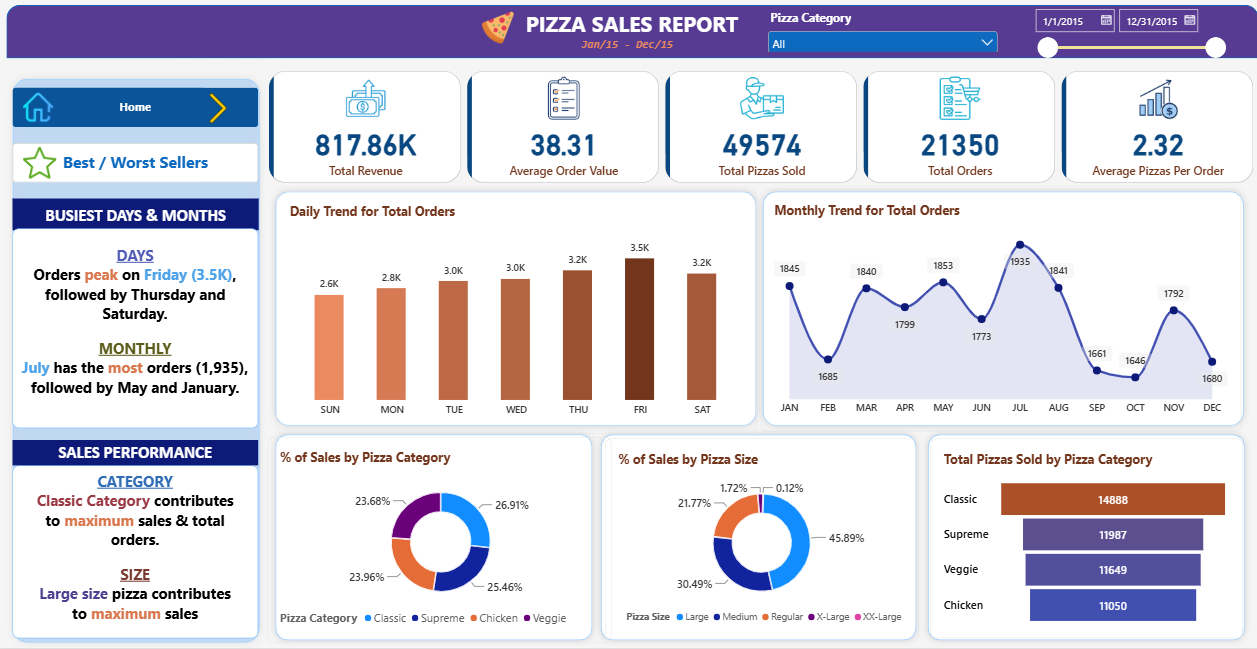

The page's visual inventory and layout, read from the dashboard file:
{"tool":"powerbi","page":{"name":"Home","canvas":[1600,820],"ordinal":0},"visuals":[{"type":"cardVisual","fields":{"Data":["pizza_sales.Total Revenue","pizza_sales.Average Order Value","pizza_sales.Total Pizzas Sold","pizza_sales.Total Orders","pizza_sales.Average Pizzas Per Order"]},"box":[343.6,90.9,1243.6,141.8],"z":0},{"type":"shape","box":[12.7,7.3,1580,67.3],"z":1000},{"type":"textbox","box":[645.5,12.7,314,44],"z":2000},{"type":"textbox","box":[694.5,41.8,203.6,32.7],"z":3000},{"type":"image","box":[570.9,14.5,123.6,41.8],"z":4000},{"type":"shape","box":[12.7,92.7,327.3,727.3],"z":5000},{"type":"shape","box":[344,234,623,312],"z":6000},{"type":"columnChart","title":"Daily Trend for Total Orders","fields":{"Category":["pizza_sales.Order Day"],"Y":["pizza_sales.Total Orders"]},"box":[354,242,606,306],"z":7000},{"type":"shape","box":[960,234,623,312],"z":8000},{"type":"areaChart","title":"Monthly Trend for Total Orders","fields":{"Category":["pizza_sales.Order Month"],"Y":["pizza_sales.Total Orders"]},"box":[966,240,606,306],"z":9000},{"type":"shape","box":[344,542,416,276],"z":10000},{"type":"shape","box":[756,542,414,276],"z":11000},{"type":"shape","box":[1168,542,416,276],"z":12000},{"type":"donutChart","title":"% of Sales by Pizza Category","fields":{"Category":["pizza_sales.pizza_category"],"Y":["pizza_sales.Total Revenue"]},"box":[342,552,434,260],"z":13000},{"type":"donutChart","title":"% of Sales by Pizza Size","fields":{"Category":["pizza_sales.pizza_size"],"Y":["pizza_sales.Total Revenue"]},"box":[768,554,396,256],"z":14000},{"type":"funnel","title":"Total Pizzas Sold by Pizza Category","fields":{"Category":["pizza_sales.pizza_category"],"Y":["pizza_sales.Total Pizzas Sold"]},"box":[1180,554,394,252],"z":15000},{"type":"textbox","box":[20,250.9,310.9,40],"z":16000},{"type":"textbox","box":[20,290,310,252],"z":17000},{"type":"textbox","box":[20,588,310,218],"z":18000},{"type":"textbox","box":[20,556,310,32],"z":19000},{"type":"slicer","fields":{"Values":["pizza_sales.pizza_category"]},"box":[970,14,299.5,53.6],"z":20000},{"type":"slicer","fields":{"Values":["pizza_sales.order_date"]},"box":[1304,8,251.4,75.8],"z":21000},{"type":"pageNavigator","box":[20,182,310,50],"z":21001},{"type":"pageNavigator","box":[20,112,310,50],"z":21002},{"type":"image","box":[34,114,38,46],"z":21003},{"type":"image","box":[34,182,42,50],"z":21004},{"type":"image","box":[262,116,38,44],"z":21005}]}

Visuals, with their boxes in screenshot pixels (x1, y1, x2, y2), scaled from the page's 1600x820 canvas onto the 1257x649 screenshot:
cardVisual - pizza_sales.Total Revenue x pizza_sales.Average Order Value: crop(270, 72, 1247, 184)
shape: crop(10, 6, 1251, 59)
textbox: crop(507, 10, 754, 45)
textbox: crop(546, 33, 706, 59)
image: crop(449, 11, 546, 45)
shape: crop(10, 73, 267, 648)
shape: crop(270, 185, 760, 432)
"Daily Trend for Total Orders" columnChart: crop(278, 192, 754, 434)
shape: crop(754, 185, 1244, 432)
"Monthly Trend for Total Orders" areaChart: crop(759, 190, 1235, 432)
shape: crop(270, 429, 597, 647)
shape: crop(594, 429, 919, 647)
shape: crop(918, 429, 1244, 647)
"% of Sales by Pizza Category" donutChart: crop(269, 437, 610, 643)
"% of Sales by Pizza Size" donutChart: crop(603, 438, 914, 641)
"Total Pizzas Sold by Pizza Category" funnel: crop(927, 438, 1237, 638)
textbox: crop(16, 199, 260, 230)
textbox: crop(16, 230, 259, 429)
textbox: crop(16, 465, 259, 638)
textbox: crop(16, 440, 259, 465)
slicer - pizza_sales.pizza_category: crop(762, 11, 997, 54)
slicer - pizza_sales.order_date: crop(1024, 6, 1222, 66)
pageNavigator: crop(16, 144, 259, 184)
pageNavigator: crop(16, 89, 259, 128)
image: crop(27, 90, 57, 127)
image: crop(27, 144, 60, 184)
image: crop(206, 92, 236, 127)
